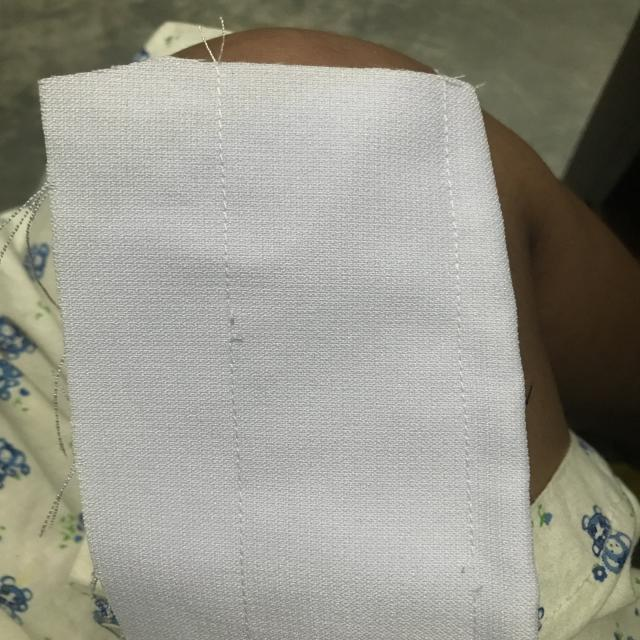broken: (212, 300, 268, 356)
good: (208, 156, 238, 250)
